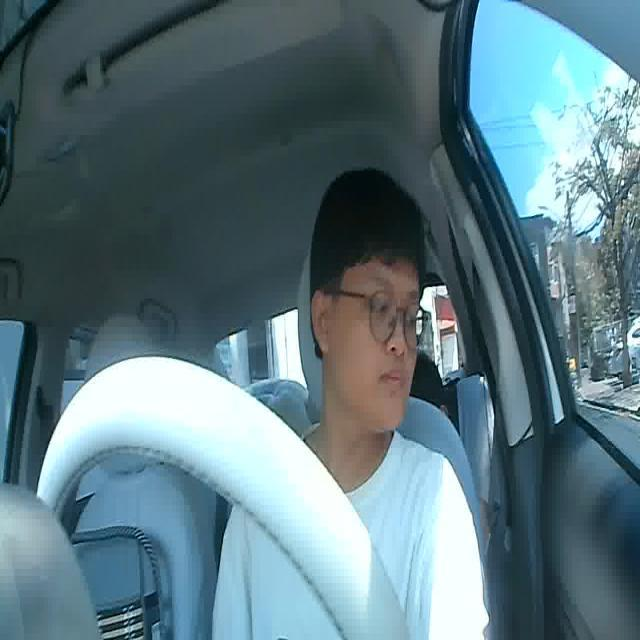Eye-Open: (367, 298, 387, 319), (398, 306, 418, 326)
Inattentive: (308, 168, 425, 431)
Normal: (378, 366, 405, 388)
